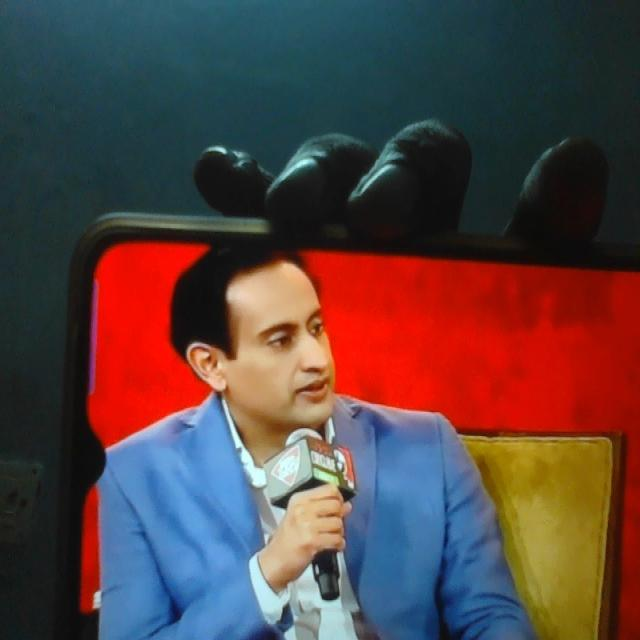fake: (211, 220, 333, 451)
